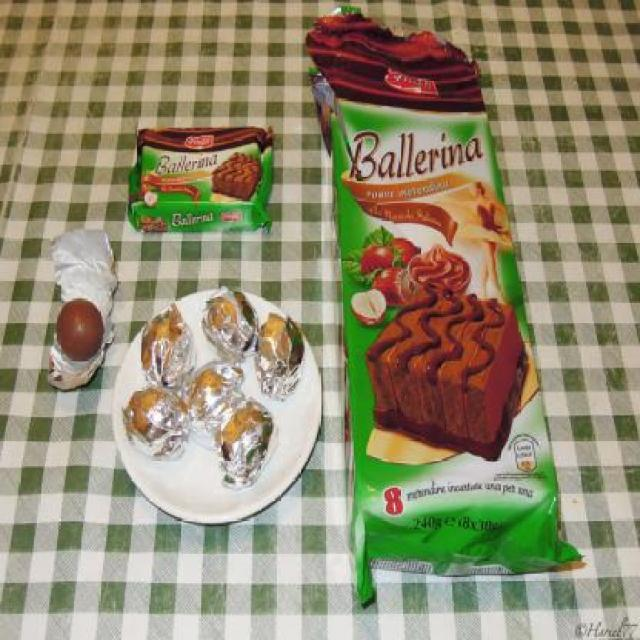Merendine: (312, 12, 586, 606), (127, 119, 276, 235)
